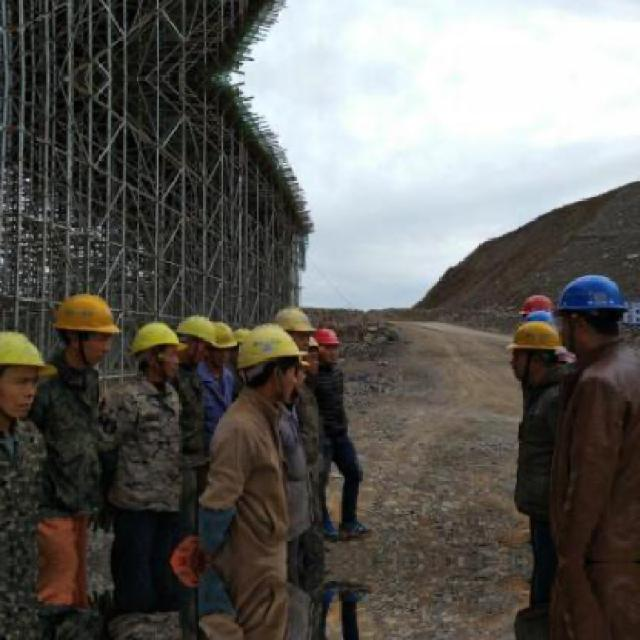con casco: (498, 270, 632, 400), (210, 328, 299, 406), (108, 326, 201, 390), (150, 304, 238, 362), (49, 291, 124, 357), (260, 308, 341, 355), (0, 346, 49, 404)
